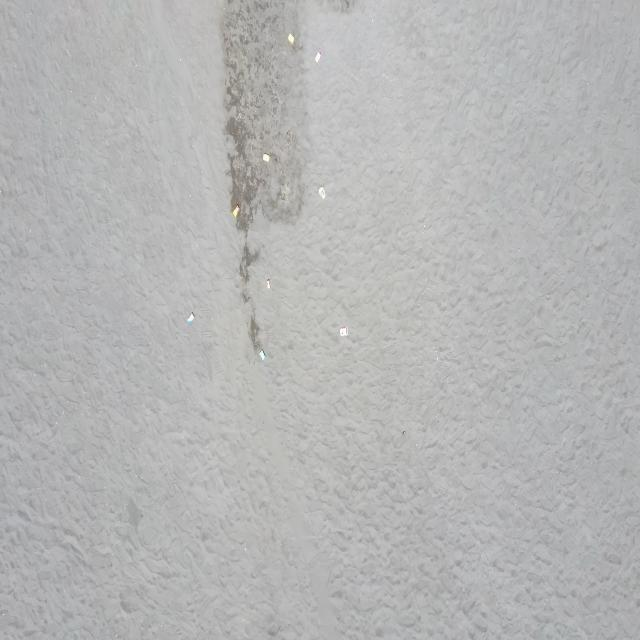Garbage: (232, 203, 239, 216), (318, 187, 324, 199), (287, 32, 293, 44), (187, 312, 193, 323), (261, 152, 268, 161), (258, 350, 264, 360), (340, 327, 347, 335), (315, 51, 320, 62), (266, 279, 270, 287), (403, 430, 404, 435)
